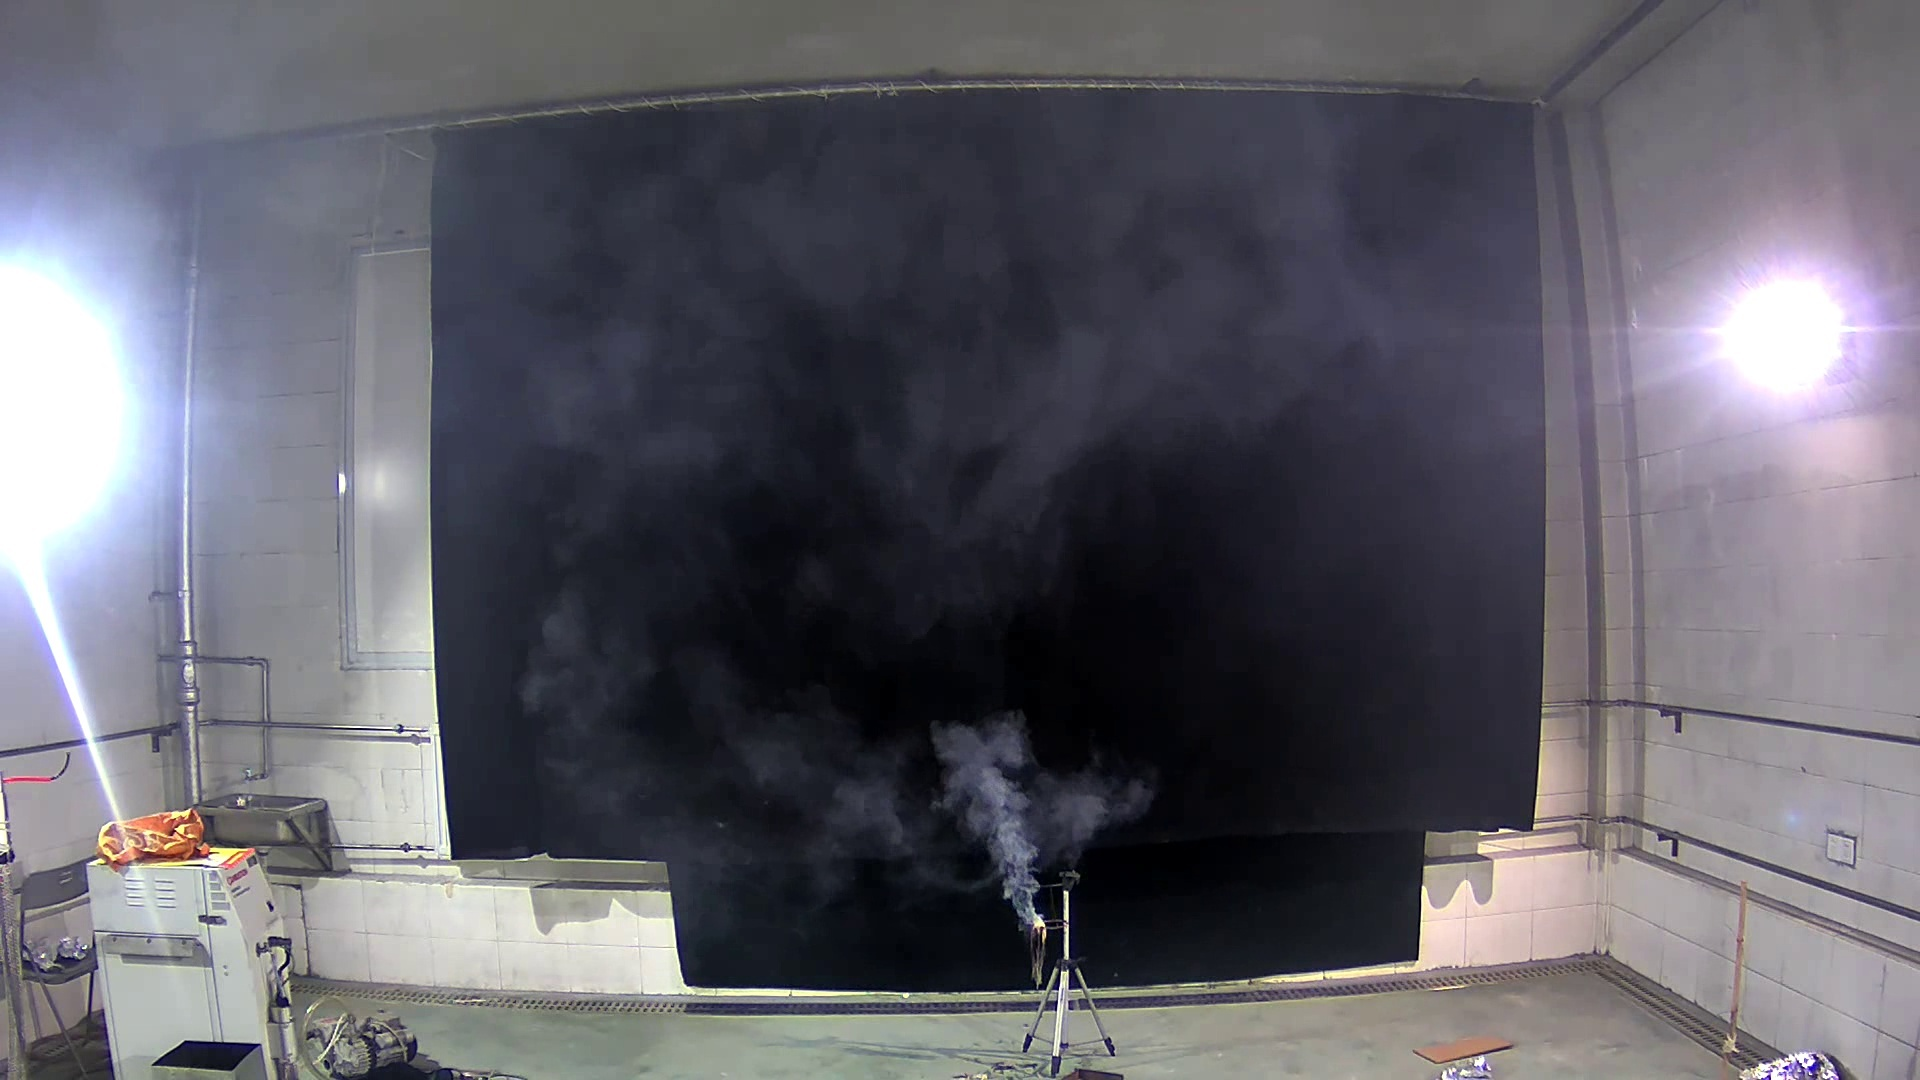smoke: (496, 613, 1163, 955)
